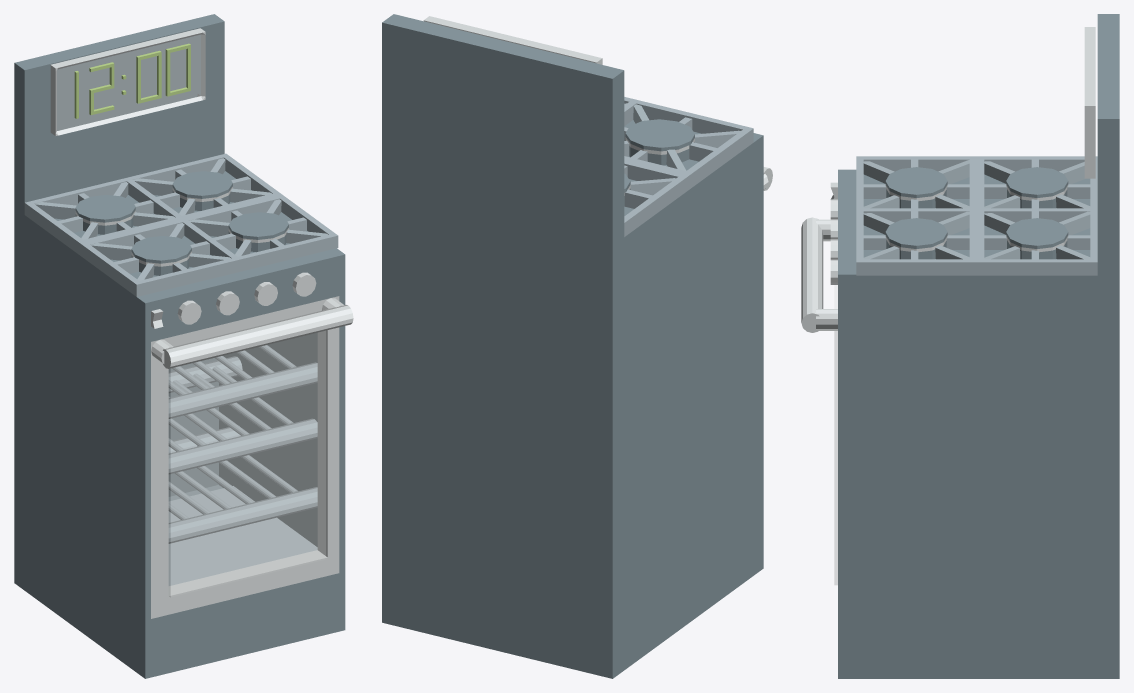
Rendered from large_oven.gltf.
3 renders of one model, left to right at view 1: azimuth 30°, elevation 25°; view 2: azimuth 150°, elevation 25°; view 3: azimuth 270°, elevation 25°, orthographic. The views are drawn at different scales.
Visible parts, largest first — view 1: model; view 2: model; view 3: model.
Boxes of the visible parts, <box> form: model: <box>14,14,353,678</box>; model: <box>382,14,772,678</box>; model: <box>801,14,1119,678</box>.
Bounding box in the file's own units: 0.685 × 1.69 × 0.87.
